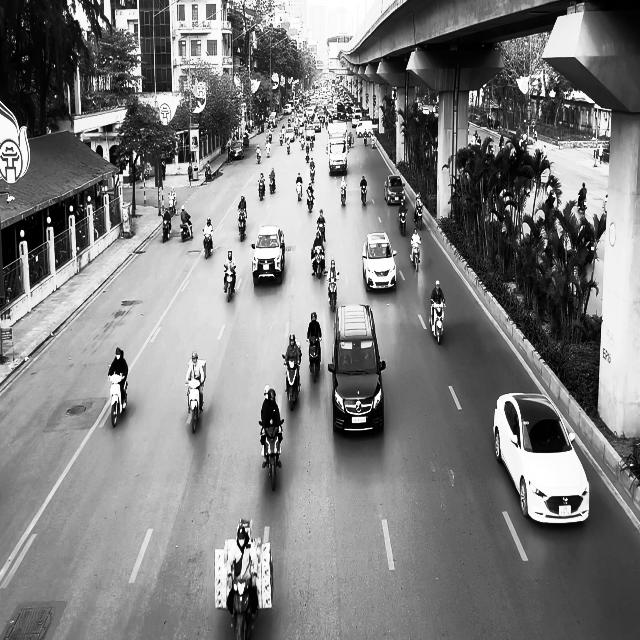car: (493, 392, 590, 525), (328, 303, 386, 435), (251, 224, 285, 286), (362, 232, 397, 292), (384, 175, 405, 205), (228, 139, 244, 161)
motorbike: (259, 418, 284, 491), (108, 369, 128, 426), (282, 354, 301, 411), (186, 378, 204, 433), (429, 300, 446, 344), (307, 336, 321, 382), (223, 265, 236, 302), (327, 272, 339, 311), (311, 245, 324, 278), (410, 240, 421, 273), (180, 217, 193, 242), (202, 230, 213, 258), (398, 208, 408, 236), (414, 205, 423, 230), (162, 217, 171, 242), (238, 216, 246, 241), (306, 189, 314, 212), (578, 193, 587, 213), (317, 221, 325, 242), (360, 184, 367, 205), (268, 176, 276, 194), (258, 180, 265, 200), (340, 184, 346, 206), (296, 182, 302, 202), (205, 167, 212, 181), (256, 148, 261, 164)
